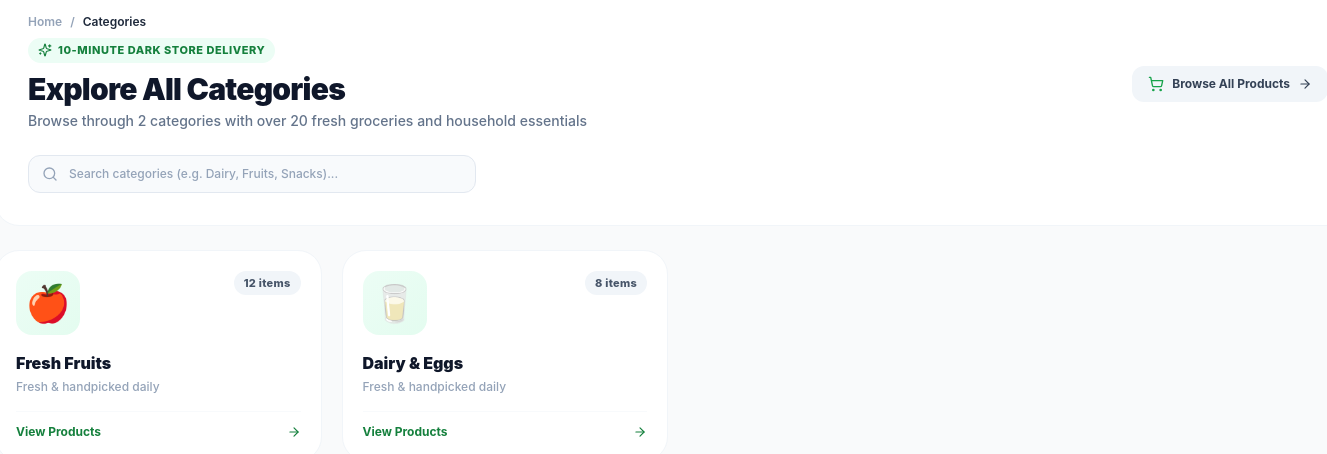
Test: Phase 8: Customer UI Components and Flows › CategoriesPage & Mobile Filtering › renders categories explorer and filters categories by search input
Expected: the heading "Explore All Categories" is shown, left=28, top=70, right=345, bottom=106
Expected: the heading "Fresh Fruits" is shown, left=16, top=352, right=111, bottom=372
# Filter by typing 'fruits'
Type "Fruits" into the field with placeholder "Search categories (e.g. Dairy, Fruits, Snacks)..." at point(252, 174), box left=28, top=154, right=476, bottom=192
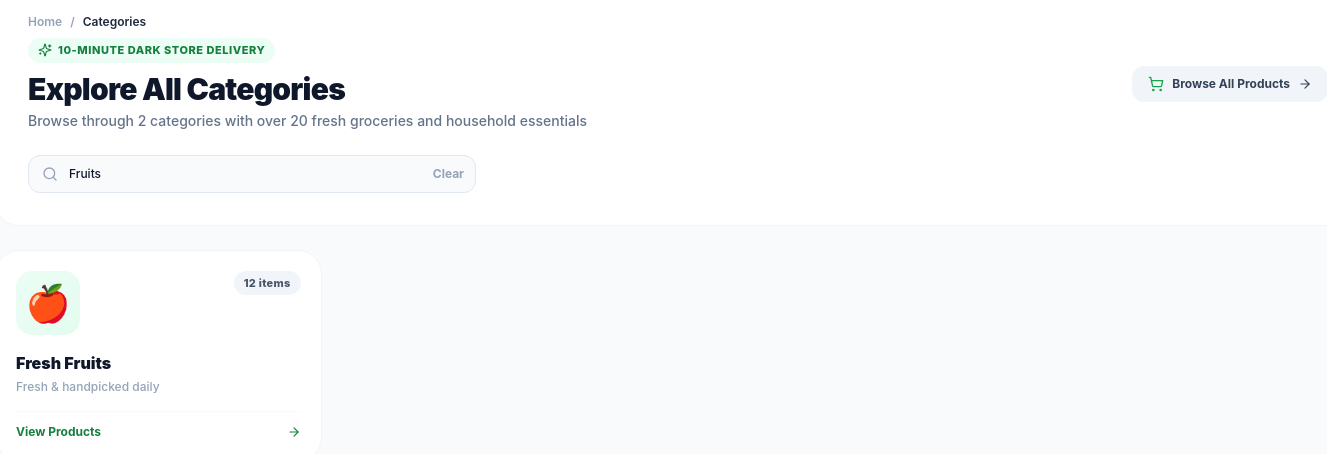
Expected: the heading "Fresh Fruits" is shown, left=16, top=352, right=111, bottom=372
Now the link "Dairy & Eggs" is gone
